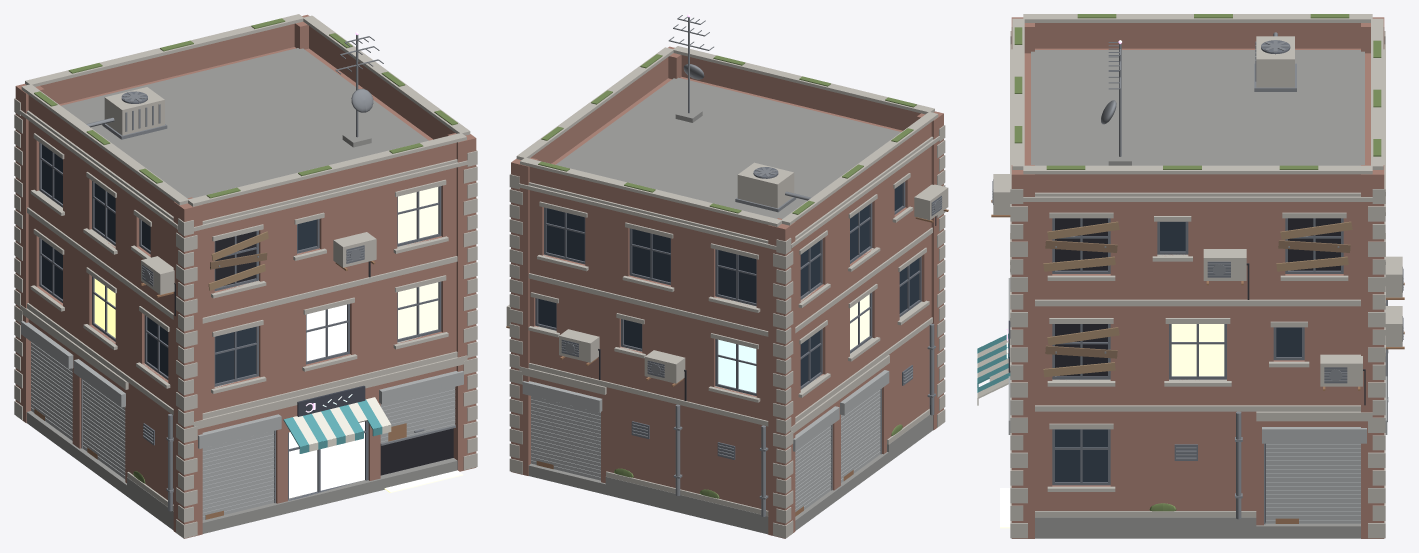
File: building_shops_3f.glb
3 renders of one model, left to right at view 1: azimuth 30°, elevation 25°; view 2: azimuth 150°, elevation 25°; view 3: azimuth 270°, elevation 25°, orthographic. The views are drawn at different scales.
Parts seen in each view (by area): view 1: building_shops_3f; view 2: building_shops_3f; view 3: building_shops_3f.
Part boxes in pixels (x1,y1,x2,y2): building_shops_3f: (14,14,477,538); building_shops_3f: (506,14,948,538); building_shops_3f: (977,14,1404,538).
Size of what is drawn, in the model's own units: 10.64 by 13.1 by 11.
